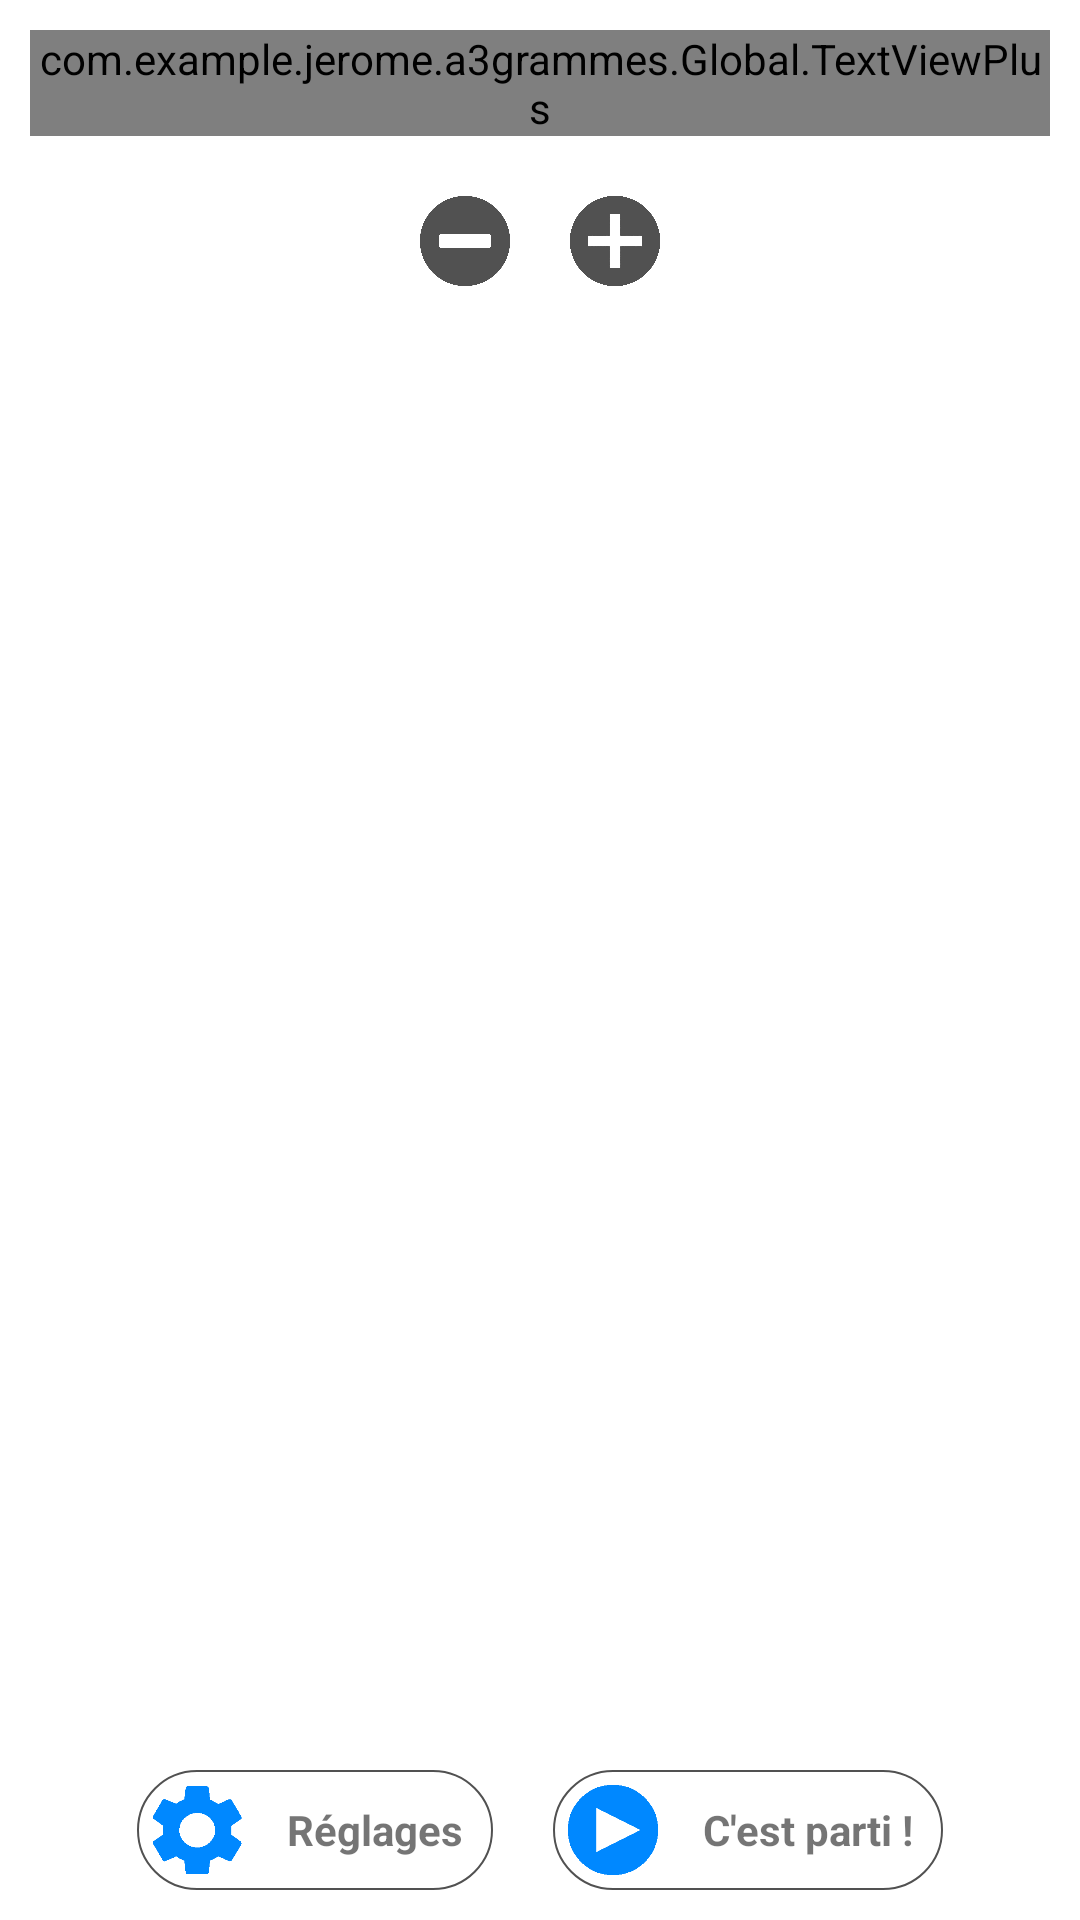

Screen size 1080w x 1920h. Icon name, then its center in pixels as [x,y]:
minus: [465,241]
play: [613,1830]
settings: [197,1830]
